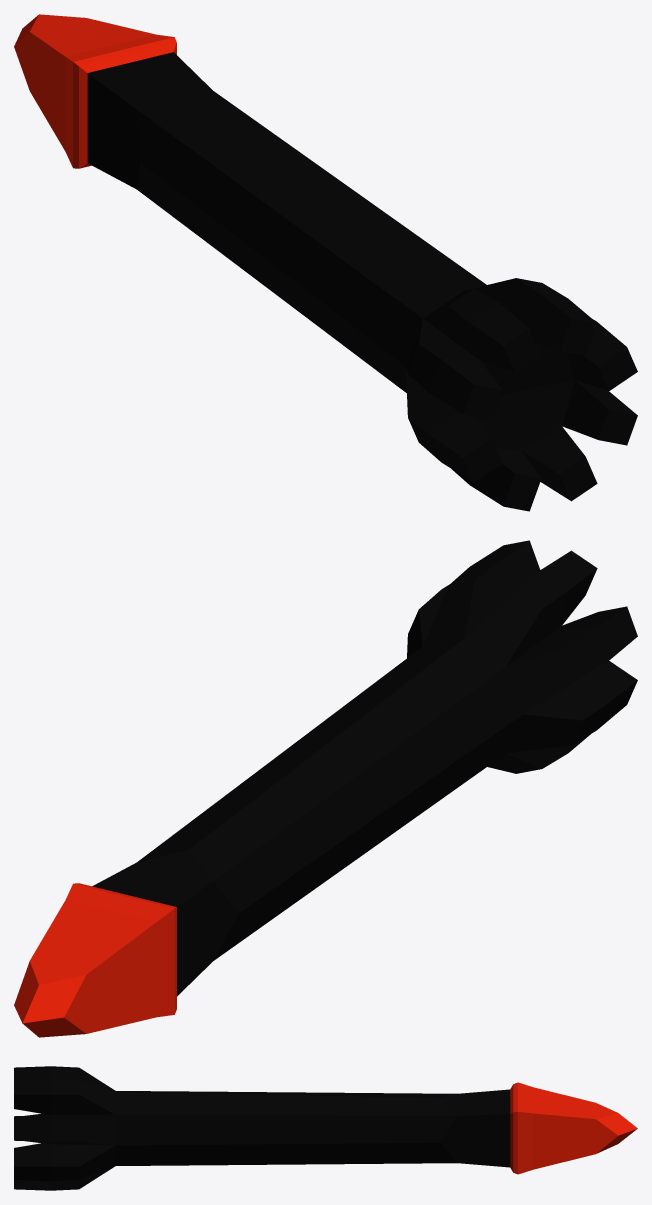
The model's file is rocket.glb.
The picture shows the model from 3 angles, top to bottom: view 1: azimuth 30°, elevation 25°; view 2: azimuth 150°, elevation 25°; view 3: azimuth 270°, elevation 25°; orthographic projection. The views are drawn at different scales.
Visible parts, largest first — view 1: Rocket; view 2: Rocket; view 3: Rocket.
Boxes of the visible parts, x1,y1,x2,y2 form: Rocket: (14, 14, 637, 511); Rocket: (14, 540, 637, 1037); Rocket: (14, 1066, 637, 1190).
Size of the model in its own units: 2.43 by 2.43 by 12.38.
